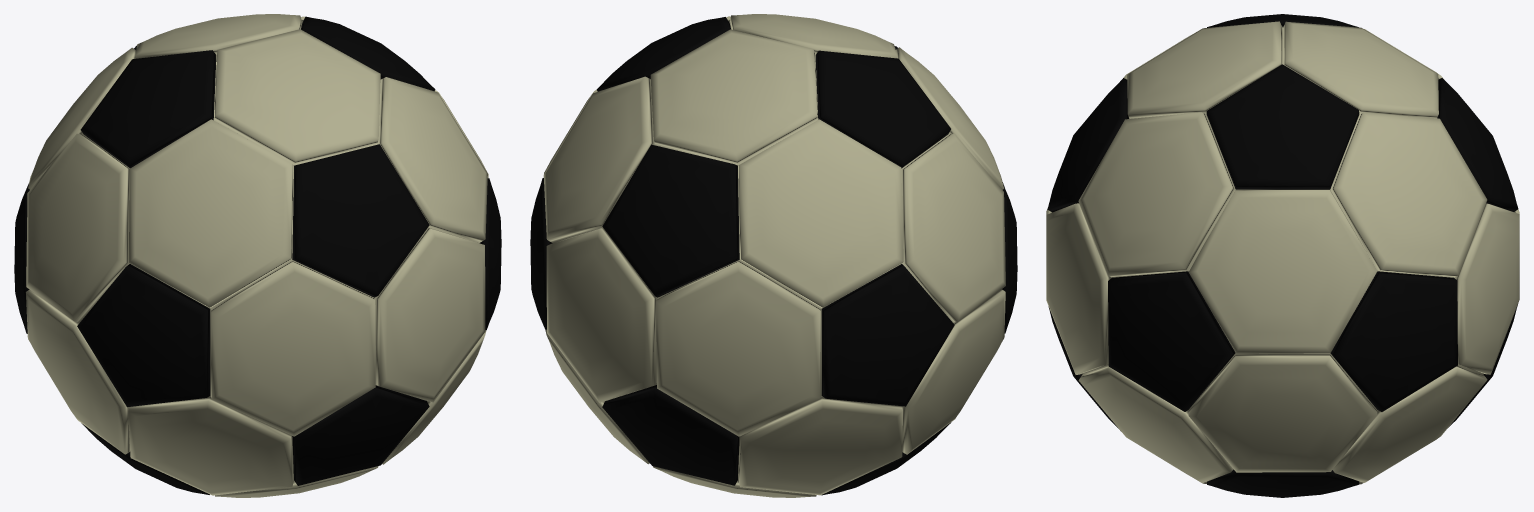
Rendered from football.obj.
The picture shows the model from 3 angles, left to right: view 1: azimuth 30°, elevation 25°; view 2: azimuth 150°, elevation 25°; view 3: azimuth 270°, elevation 25°; orthographic projection.
Visible parts, largest first — view 1: Solid.002_Solid.003; view 2: Solid.002_Solid.003; view 3: Solid.002_Solid.003.
Part boxes in pixels (box(x1,y1,x2,y2)): Solid.002_Solid.003: box(14, 14, 501, 497); Solid.002_Solid.003: box(530, 14, 1017, 497); Solid.002_Solid.003: box(1046, 14, 1519, 497).
Size of the model in its own units: 1.76 by 1.76 by 1.76.
